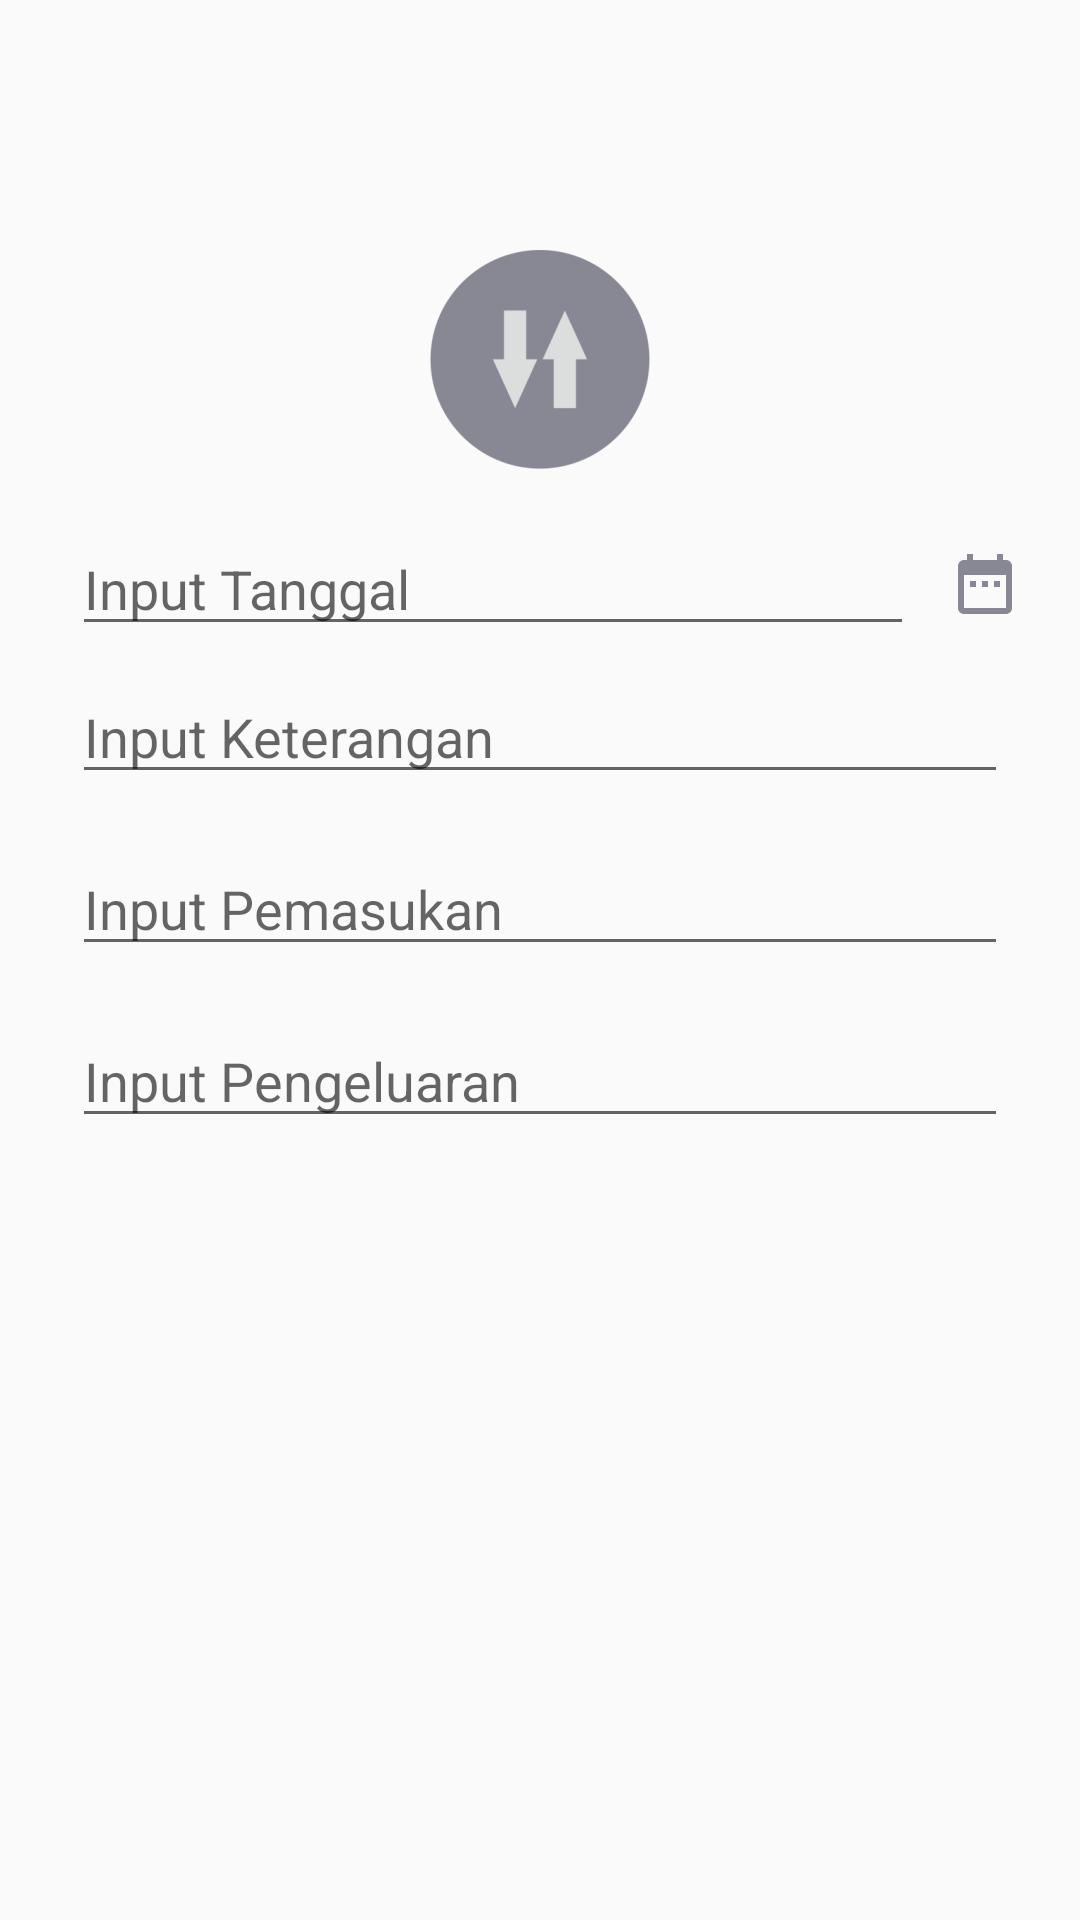

Icons on this 1080px x 1920px Android screen, each with its box as {"left": x1, "top": y1, "right": x2, "bottom": y2}:
date range: {"left": 958, "top": 554, "right": 1012, "bottom": 614}
inout: {"left": 430, "top": 250, "right": 650, "bottom": 469}
